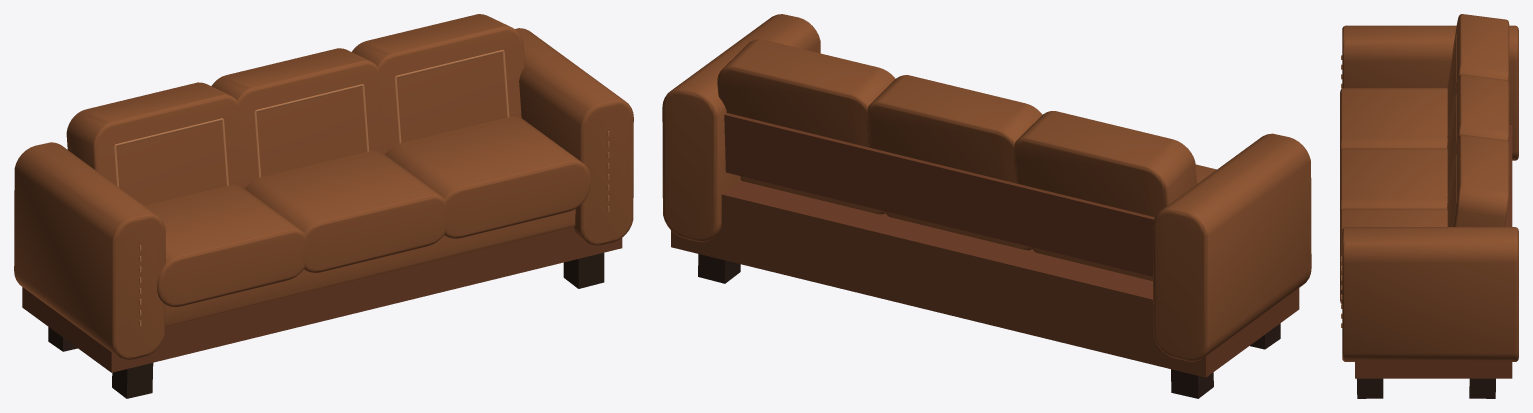
The model's file is cognac-leather-sofa-seatRadius-max.glb.
3 views of the same model, side by side, from view 1: azimuth 30°, elevation 25°; view 2: azimuth 150°, elevation 25°; view 3: azimuth 270°, elevation 25° (orthographic). The views are drawn at different scales.
Parts seen in each view (by area): view 1: sofa-part-28, sofa-part-4, back-cushion-3-part-0, seat-cushion-1-part-0, seat-cushion-2-part-0, back-cushion-1-part-0, back-cushion-2-part-0, seat-cushion-3-part-0, sofa-part-7, sofa-part-5, sofa-part-0, sofa-part-2; view 2: sofa-part-4, sofa-part-28, sofa-part-6, back-cushion-3-part-0, back-cushion-1-part-0, back-cushion-2-part-0, sofa-part-7, sofa-part-3, sofa-part-1, seat-cushion-3-part-0, seat-cushion-2-part-0, seat-cushion-1-part-0; view 3: sofa-part-7, sofa-part-28, seat-cushion-2-part-0, seat-cushion-3-part-0, back-cushion-1-part-0, back-cushion-2-part-0, back-cushion-3-part-0, sofa-part-4, seat-cushion-1-part-0, sofa-part-0, sofa-part-1.
Part boxes in pixels (x1=…): sofa-part-28: x1=14, y1=142, x2=165, y2=359; sofa-part-4: x1=22, y1=227, x2=622, y2=372; back-cushion-3-part-0: x1=66, y1=82, x2=245, y2=205; seat-cushion-1-part-0: x1=385, y1=116, x2=590, y2=238; seat-cushion-2-part-0: x1=244, y1=150, x2=448, y2=272; back-cushion-1-part-0: x1=352, y1=14, x2=524, y2=153; back-cushion-2-part-0: x1=211, y1=48, x2=385, y2=188; seat-cushion-3-part-0: x1=144, y1=184, x2=308, y2=307; sofa-part-7: x1=515, y1=28, x2=633, y2=245; sofa-part-5: x1=165, y1=209, x2=575, y2=326; sofa-part-0: x1=563, y1=252, x2=604, y2=288; sofa-part-2: x1=112, y1=363, x2=153, y2=398; sofa-part-4: x1=671, y1=180, x2=1299, y2=377; sofa-part-28: x1=1152, y1=133, x2=1311, y2=361; sofa-part-6: x1=724, y1=113, x2=1154, y2=276; back-cushion-3-part-0: x1=1013, y1=111, x2=1197, y2=217; back-cushion-1-part-0: x1=717, y1=39, x2=895, y2=147; back-cushion-2-part-0: x1=866, y1=75, x2=1042, y2=183; sofa-part-7: x1=662, y1=14, x2=820, y2=242; sofa-part-3: x1=1171, y1=369, x2=1213, y2=398; sofa-part-1: x1=698, y1=254, x2=740, y2=283; seat-cushion-3-part-0: x1=1031, y1=164, x2=1216, y2=281; seat-cushion-2-part-0: x1=884, y1=211, x2=1031, y2=250; seat-cushion-1-part-0: x1=740, y1=176, x2=884, y2=214; sofa-part-7: x1=1342, y1=227, x2=1518, y2=361; sofa-part-28: x1=1342, y1=25, x2=1518, y2=160; seat-cushion-2-part-0: x1=1340, y1=148, x2=1447, y2=212; seat-cushion-3-part-0: x1=1340, y1=88, x2=1447, y2=152; back-cushion-1-part-0: x1=1447, y1=134, x2=1509, y2=226; back-cushion-2-part-0: x1=1447, y1=74, x2=1509, y2=204; back-cushion-3-part-0: x1=1447, y1=14, x2=1509, y2=144; sofa-part-4: x1=1355, y1=125, x2=1512, y2=378; seat-cushion-1-part-0: x1=1340, y1=208, x2=1447, y2=303; sofa-part-0: x1=1357, y1=378, x2=1383, y2=398; sofa-part-1: x1=1469, y1=378, x2=1495, y2=398.
Bounding box in the file's own units: 2.64 × 1.08 × 0.886.
